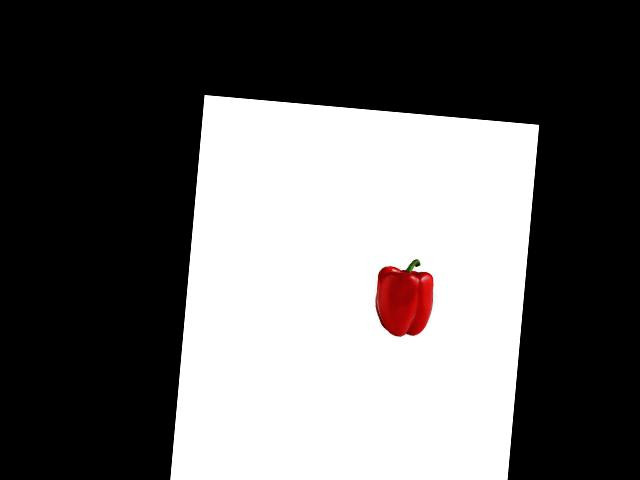bell_pepper: (368, 255, 439, 341)
